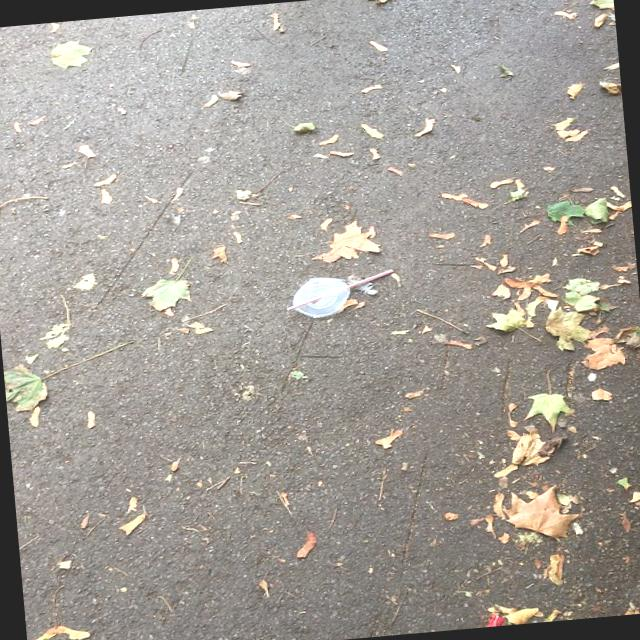Trash: (286, 262, 382, 328)
